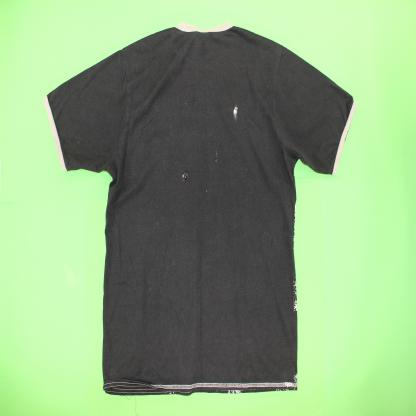stain: (188, 95, 201, 112), (231, 100, 240, 124), (180, 170, 191, 184), (213, 144, 219, 166)
